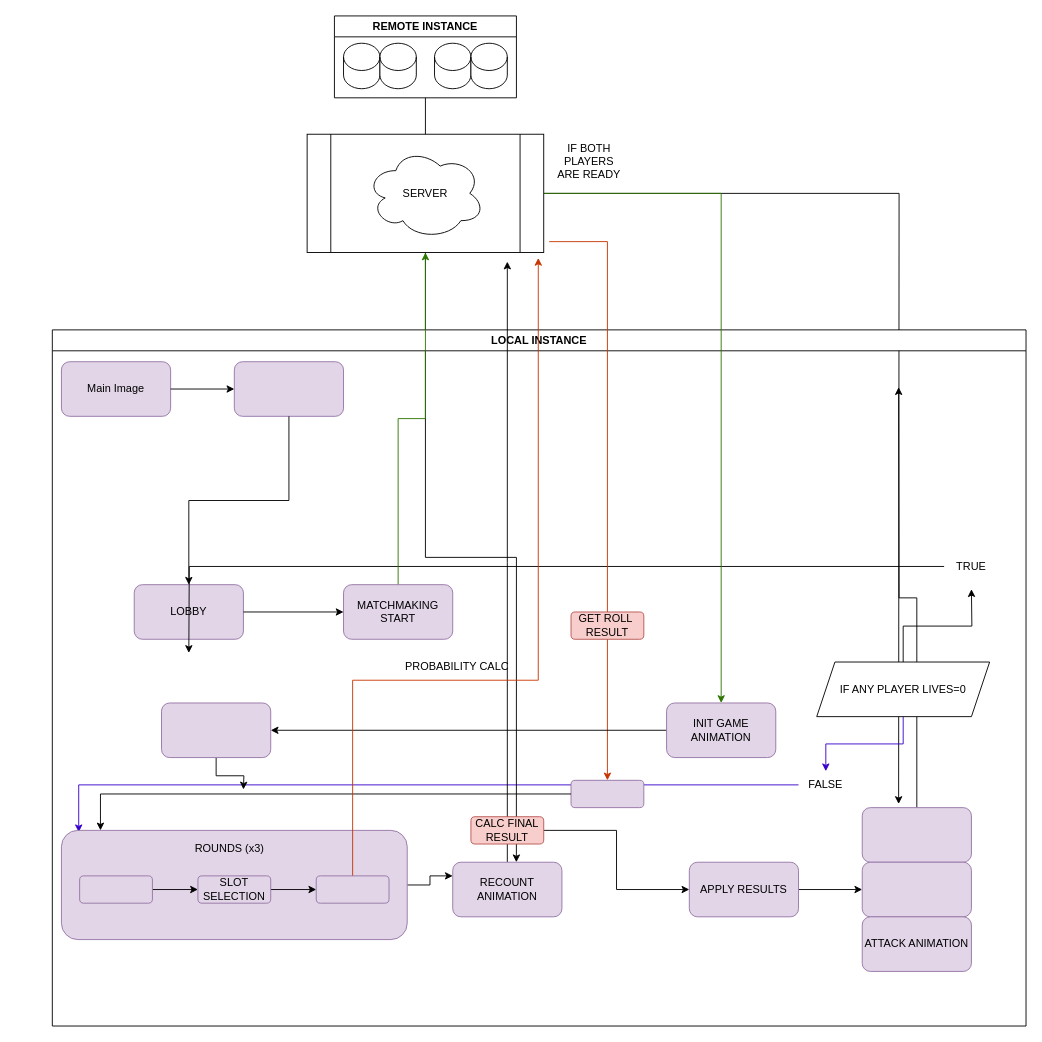
Some shapes in this 1042 by 1042 pixel diagram are drawn without their labels. The box of each missing label's shape, as (x1, y1, x2, y2) in pixels:
ANIMATION ROLL: (315, 875, 389, 903)
DEFEND ANIMATION: (861, 861, 971, 917)
EXPERIENCE ANIMATION: (861, 807, 971, 862)
HERO SELECTION: (161, 702, 271, 758)
MAIN MENU: (233, 361, 344, 416)
ROUND INSTANCE: (79, 875, 152, 903)
SHOW TO PLAYER: (570, 779, 644, 808)
